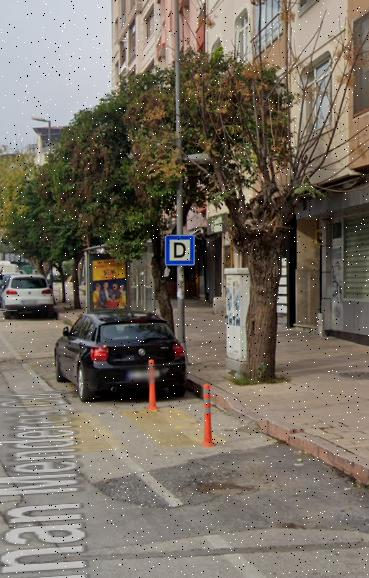station: (162, 232, 202, 270)
